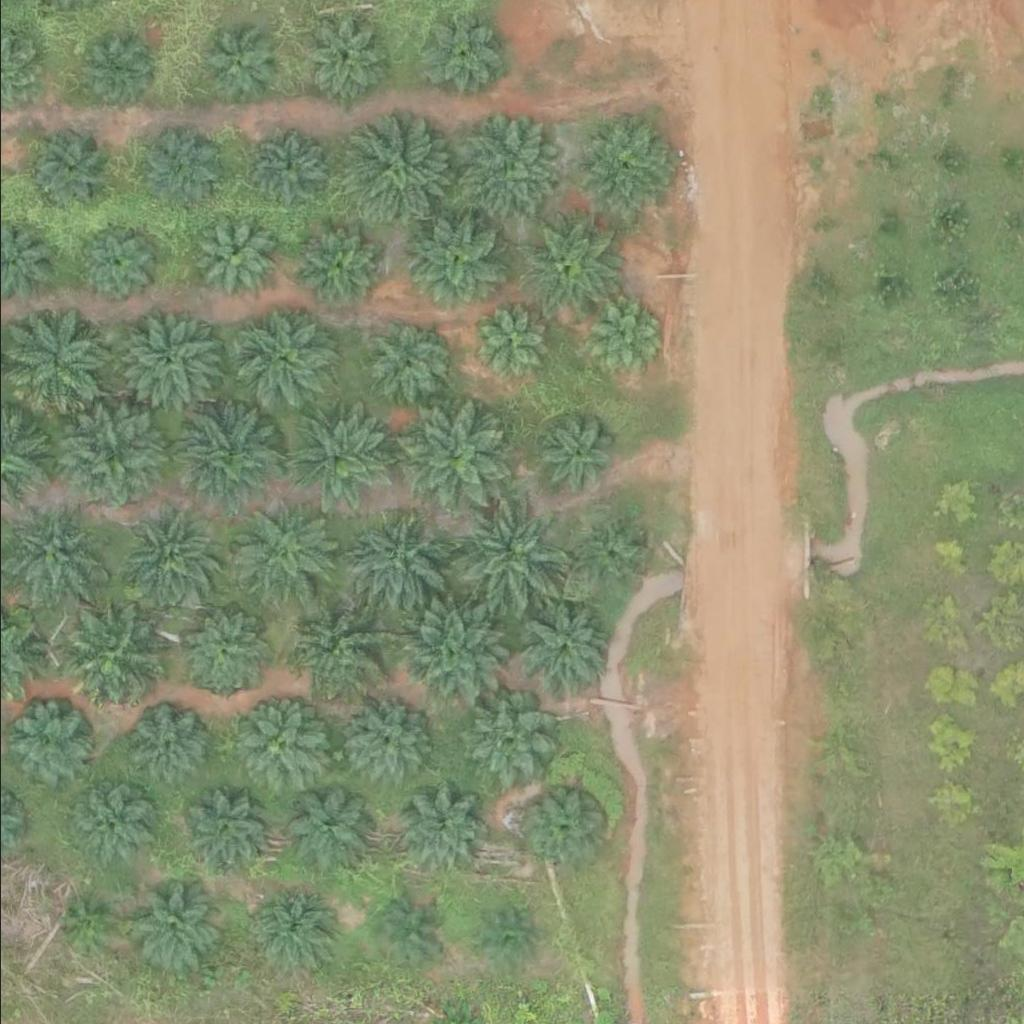Kelapa_Sawit: (452, 501, 577, 626), (446, 116, 560, 229), (339, 122, 453, 235), (400, 403, 513, 516), (281, 408, 394, 521), (172, 402, 285, 515), (53, 402, 167, 514), (572, 117, 673, 217), (521, 215, 622, 315), (346, 516, 447, 616), (231, 506, 332, 606), (110, 506, 211, 606), (400, 604, 501, 704), (284, 596, 385, 696), (61, 610, 162, 710), (402, 215, 502, 315), (235, 312, 335, 412), (121, 315, 221, 415), (234, 702, 323, 790), (515, 605, 603, 693), (180, 606, 268, 694), (123, 702, 211, 790), (3, 701, 91, 789), (248, 885, 336, 973), (528, 412, 617, 499), (576, 300, 664, 387), (70, 223, 158, 310), (25, 132, 113, 219), (461, 696, 549, 783), (336, 698, 424, 785), (394, 786, 482, 873), (281, 784, 369, 871), (179, 784, 267, 871), (61, 778, 149, 865), (129, 885, 217, 972), (303, 21, 379, 96), (527, 791, 603, 866), (423, 16, 499, 91), (250, 136, 326, 211), (136, 134, 212, 209), (297, 228, 373, 303), (193, 223, 269, 298), (364, 330, 440, 405), (472, 305, 547, 380), (76, 27, 151, 102), (204, 29, 279, 104), (374, 902, 437, 964), (577, 525, 640, 587), (56, 898, 107, 948), (477, 912, 527, 962)
